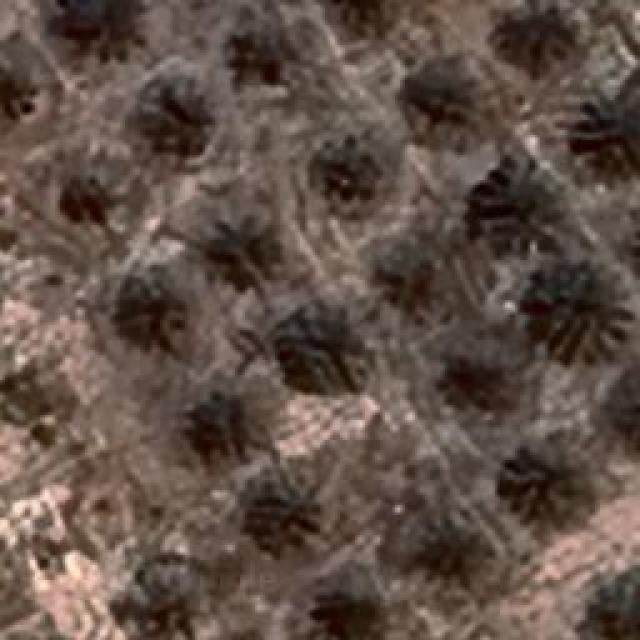PalmTree: (80, 58, 612, 604), (56, 71, 350, 611), (522, 255, 636, 365), (500, 432, 600, 532), (472, 155, 572, 250), (294, 128, 388, 216), (118, 554, 214, 639), (278, 308, 370, 392), (192, 205, 282, 290), (406, 68, 494, 150), (495, 0, 585, 78), (114, 270, 196, 352), (245, 470, 320, 550), (182, 394, 262, 468), (578, 84, 638, 178), (134, 88, 208, 162), (60, 0, 148, 60), (226, 8, 294, 82), (52, 168, 126, 236), (377, 242, 455, 306), (416, 527, 494, 585), (0, 40, 45, 140), (440, 347, 510, 405), (600, 367, 640, 457), (319, 0, 402, 27), (318, 0, 402, 20)
